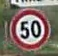limite 50: (7, 7, 51, 50)
